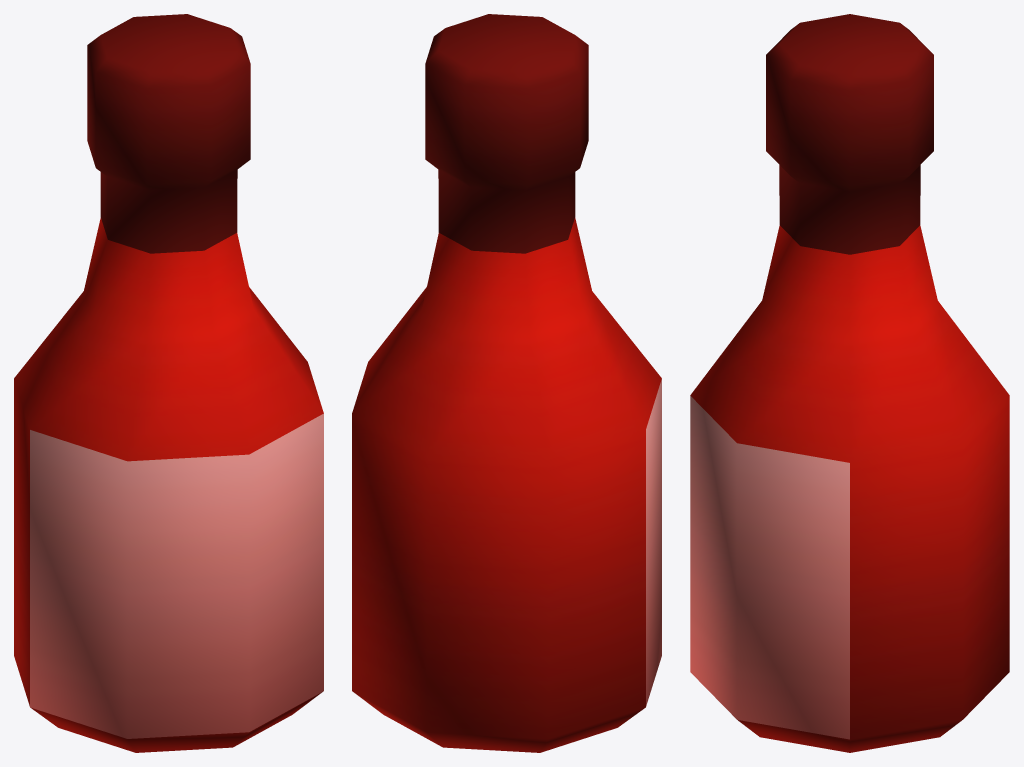
The model's file is SM_Ketchup.fbx.
3 renders of one model, left to right at view 1: azimuth 30°, elevation 25°; view 2: azimuth 150°, elevation 25°; view 3: azimuth 270°, elevation 25°, orthographic.
Visible parts, largest first — view 1: SM_Ketchup; view 2: SM_Ketchup; view 3: SM_Ketchup.
Boxes of the visible parts, left/top/right/bottom form: SM_Ketchup: left=14, top=14, right=323, bottom=752; SM_Ketchup: left=352, top=14, right=661, bottom=752; SM_Ketchup: left=690, top=14, right=1009, bottom=752.
Bounding box in the file's own units: 15.88 × 35.94 × 15.88.
1 material, 1 textured.
